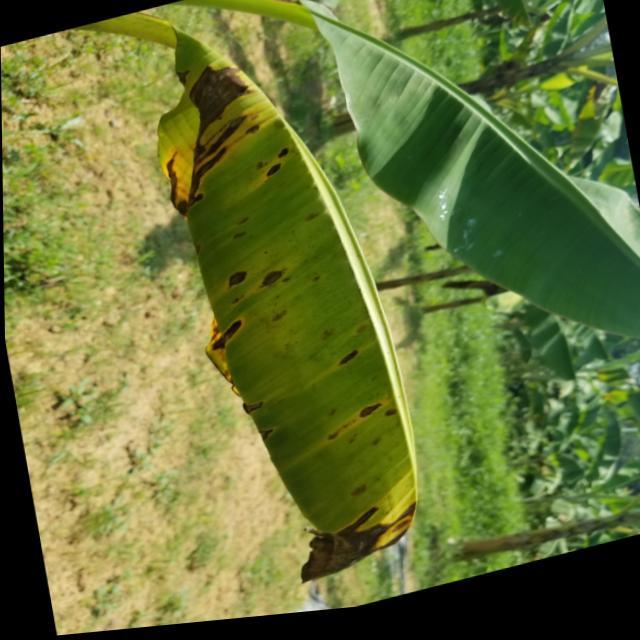Early_rust: (105, 0, 443, 591)
